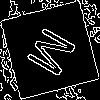M: (25, 25, 86, 84)
